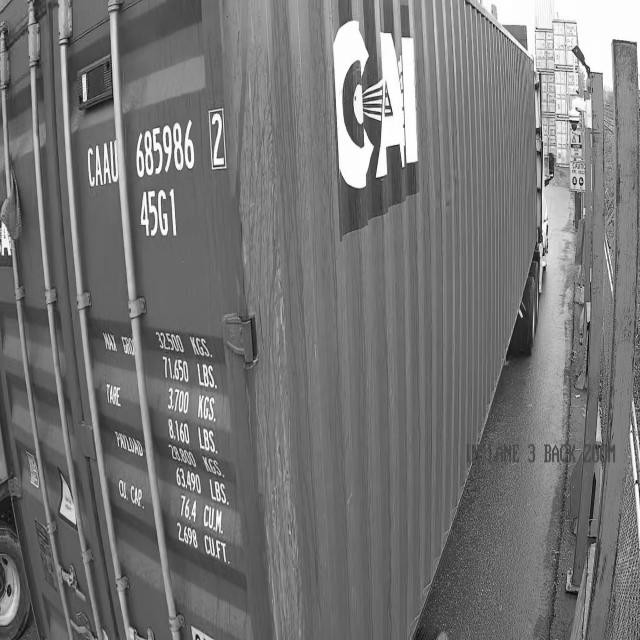container_company_logo: (325, 0, 424, 247)
container_number: (82, 107, 202, 239)
other_container_info: (102, 325, 234, 568)
truck_with_container: (0, 0, 546, 639)
